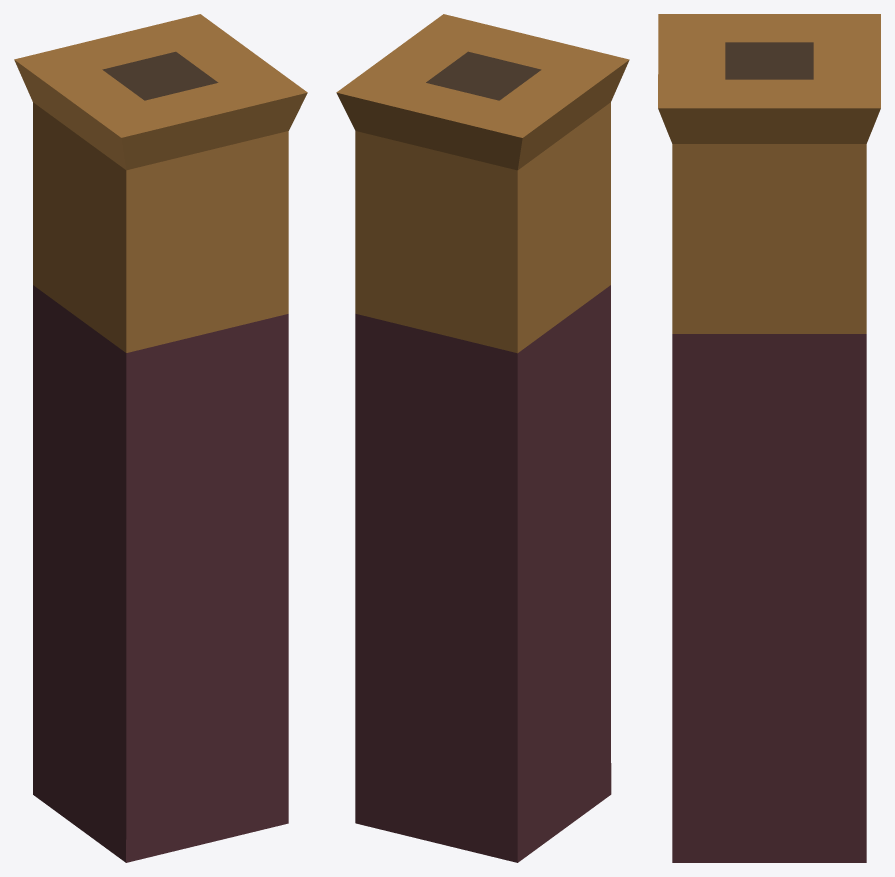
File: weapons-shotgun-bullet.glb
3 views of the same model, side by side, from view 1: azimuth 30°, elevation 25°; view 2: azimuth 150°, elevation 25°; view 3: azimuth 270°, elevation 25° (orthographic). The views are drawn at different scales.
Visible parts, largest first — view 1: shotgun-bullet; view 2: shotgun-bullet; view 3: shotgun-bullet.
Part boxes in pixels (x1,y1,x2,y2): shotgun-bullet: (14, 14, 307, 862); shotgun-bullet: (336, 14, 629, 862); shotgun-bullet: (658, 14, 880, 862).
Bounding box in the file's own units: 0.0175 × 0.0657 × 0.0174.
